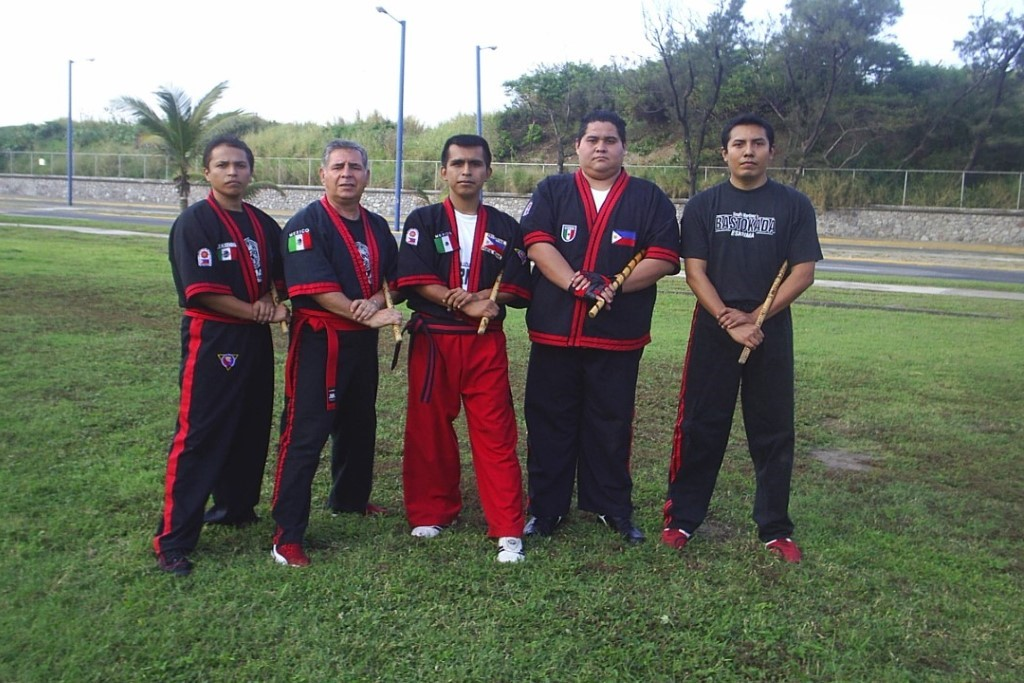baston_e: (739, 265, 787, 358), (590, 253, 644, 309), (478, 273, 503, 327), (382, 284, 403, 336), (267, 280, 289, 328)
baston_v: (474, 323, 489, 339), (734, 354, 749, 367), (279, 323, 293, 335), (393, 333, 405, 345), (586, 308, 597, 320)
